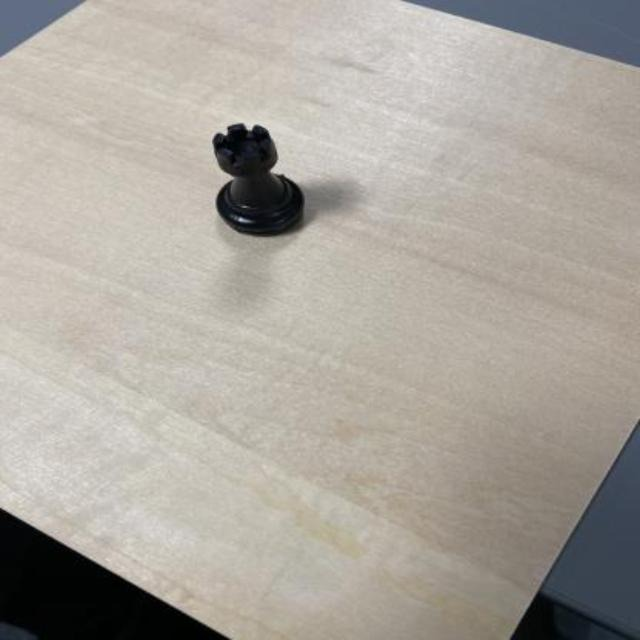black-rook: (209, 120, 309, 235)
